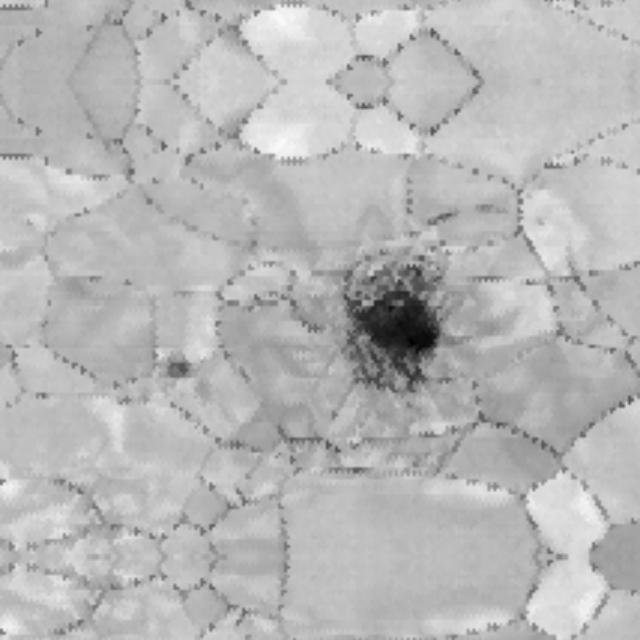good_void: (331, 269, 457, 398), (161, 349, 194, 382), (530, 213, 550, 231)
